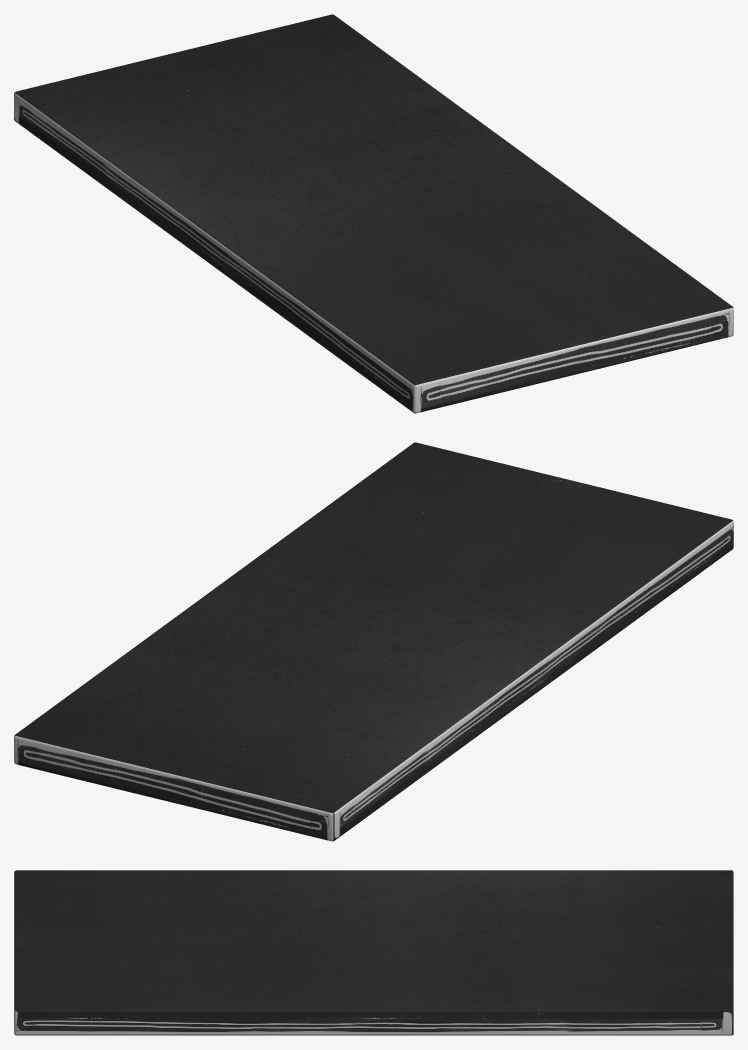
File: commode-3-plateau.fbx
3 views of the same model, one above another, from view 1: azimuth 30°, elevation 25°; view 2: azimuth 150°, elevation 25°; view 3: azimuth 270°, elevation 25° (orthographic). The views are drawn at different scales.
Parts seen in each view (by area): view 1: commode-3-plateau; view 2: commode-3-plateau; view 3: commode-3-plateau.
Boxes of the visible parts, left/top/right/bottom form: commode-3-plateau: left=14, top=14, right=733, bottom=413; commode-3-plateau: left=14, top=442, right=733, bottom=841; commode-3-plateau: left=14, top=870, right=733, bottom=1035.
Size of the model in its own units: 22.5 by 2 by 48.8.
Materials: 1 (1 with a texture image).
